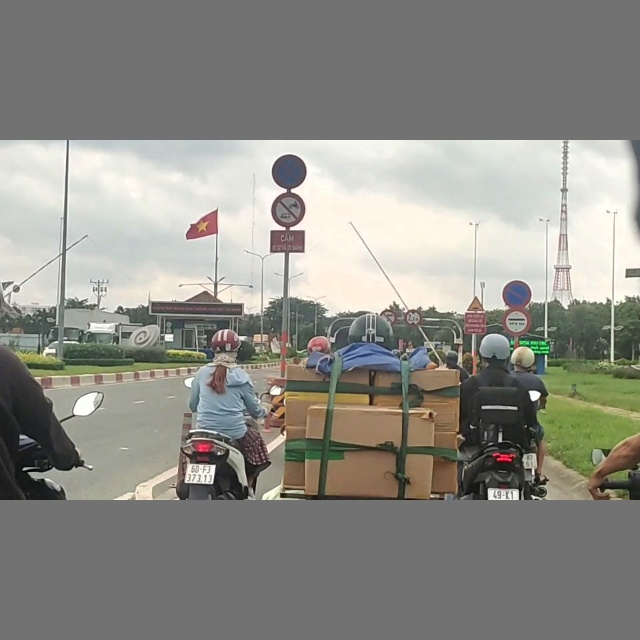P.111: (271, 193, 307, 227)
P.117*: (405, 310, 423, 326)
P.129: (502, 309, 531, 336)
P.130: (271, 154, 307, 188)
P.131a: (502, 281, 532, 308)
W.221b: (466, 296, 486, 312)
